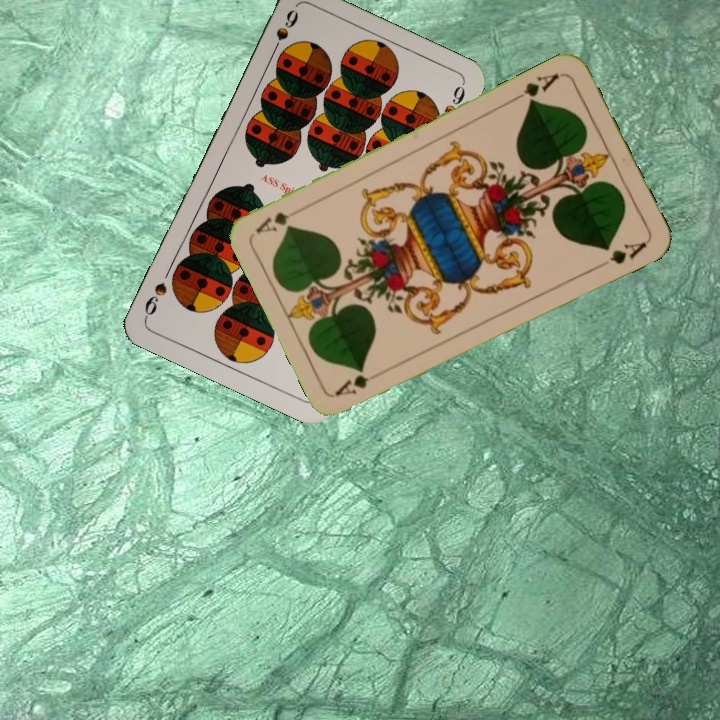GA: (509, 69, 564, 107), (332, 370, 372, 399)
S9: (266, 5, 301, 60)
